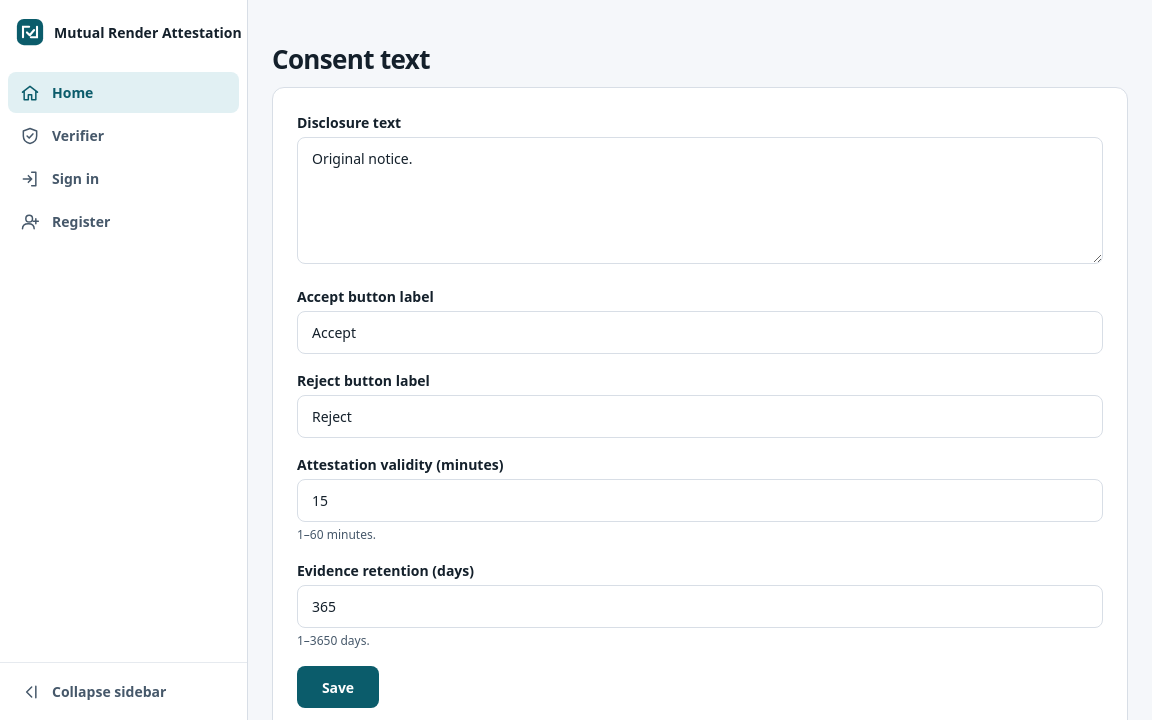
Test: AdminConsent page › saves an edited disclosure and says a new sealed bundle will follow
This screenshot has width=1152, height=720.
Replace the text in the text box labelled "Disclosure text" with "We share data with advertisers." at x=700, y=200, box top-left (297, 137), bottom-right (1103, 264)
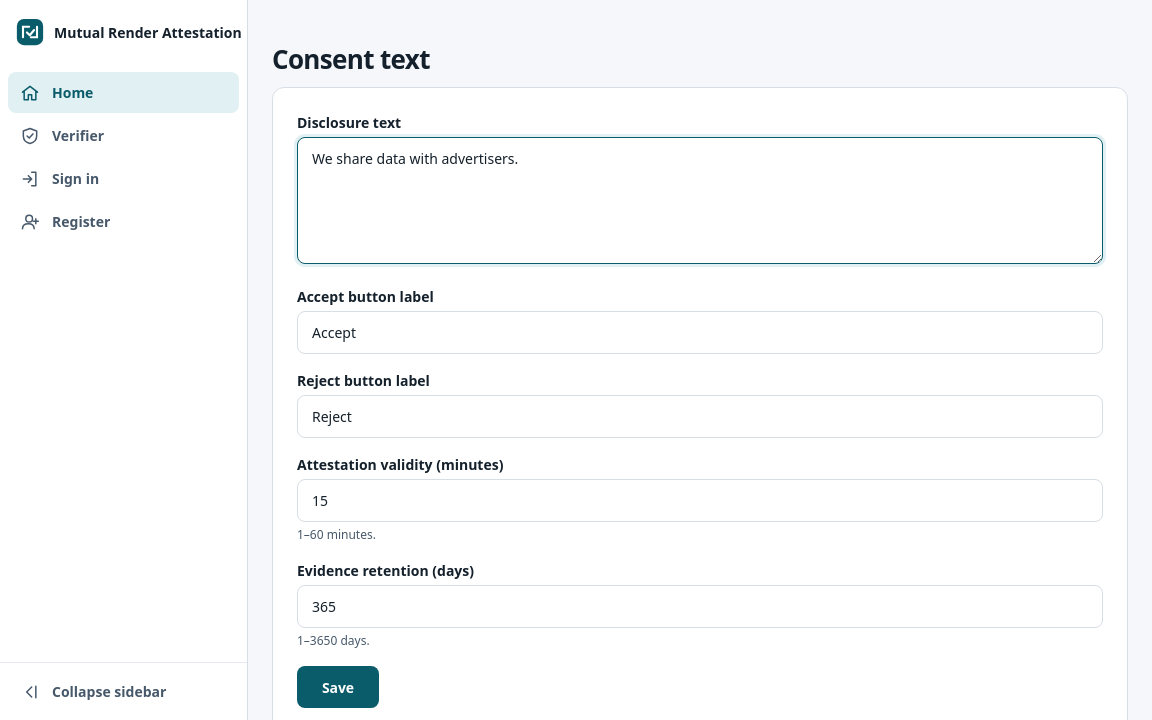
Click the button "Save" at x=338, y=687, box top-left (297, 666), bottom-right (379, 708)
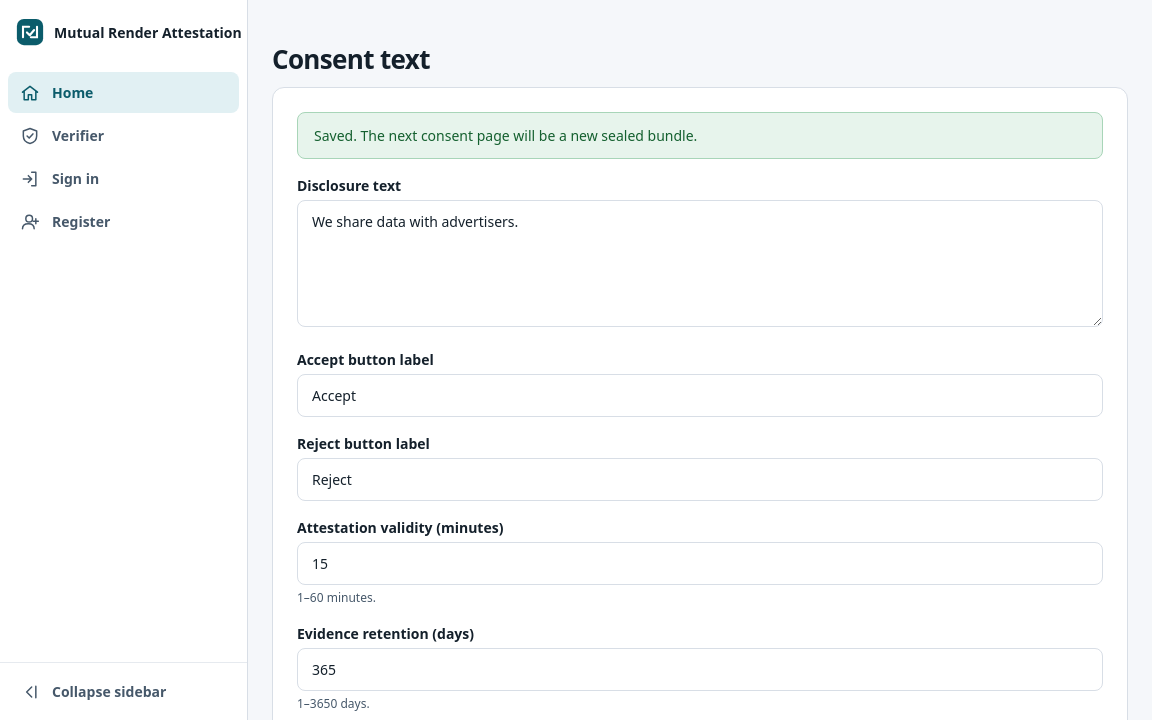
Now the message shows "new sealed bundle", box top-left (314, 126), bottom-right (697, 145)
